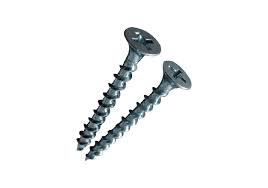TORNILLOS: (67, 12, 205, 166)
